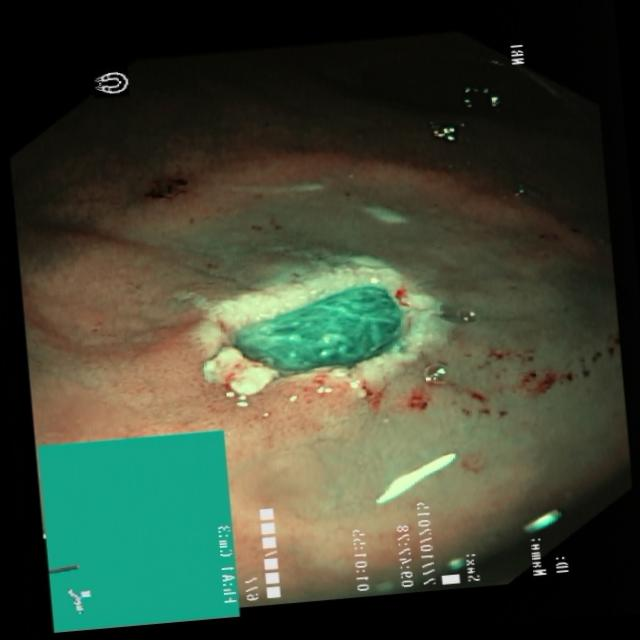dyed-resection-margins: (159, 239, 619, 429), (119, 152, 221, 221)
